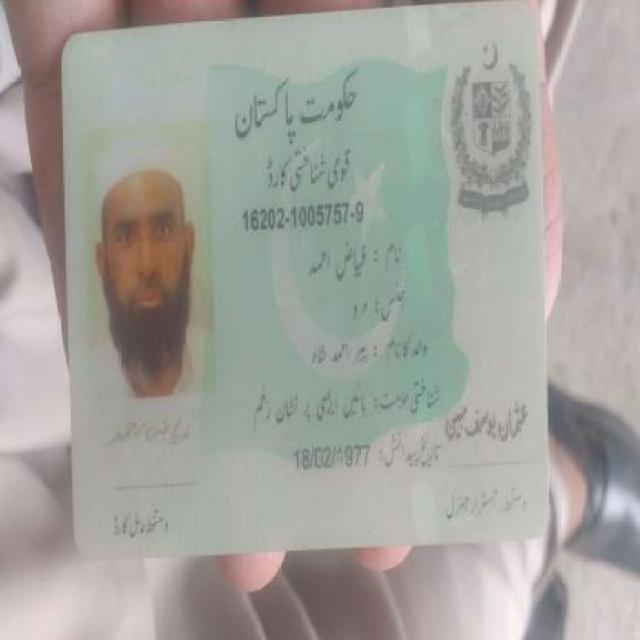Front: (58, 19, 551, 548)
